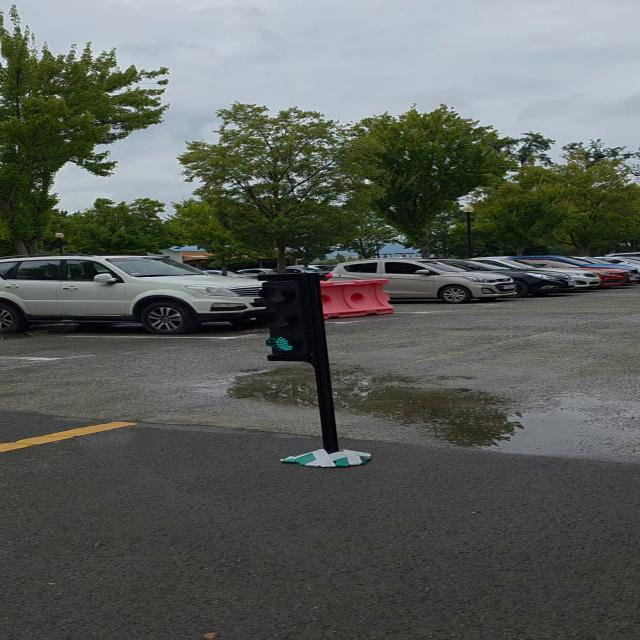green: (260, 272, 330, 362)
